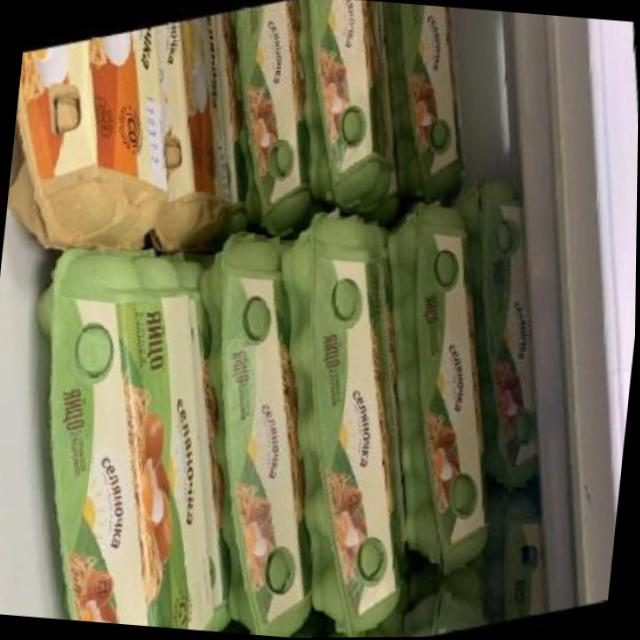Egg: (1, 206, 262, 633), (240, 184, 453, 639), (161, 211, 350, 639), (345, 180, 527, 596), (0, 14, 190, 281), (435, 168, 571, 503), (274, 0, 415, 229), (206, 0, 333, 251), (135, 9, 253, 255), (362, 2, 484, 211), (471, 488, 559, 629), (390, 581, 493, 638)
